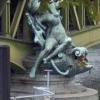Statue: (18, 3, 97, 77)
